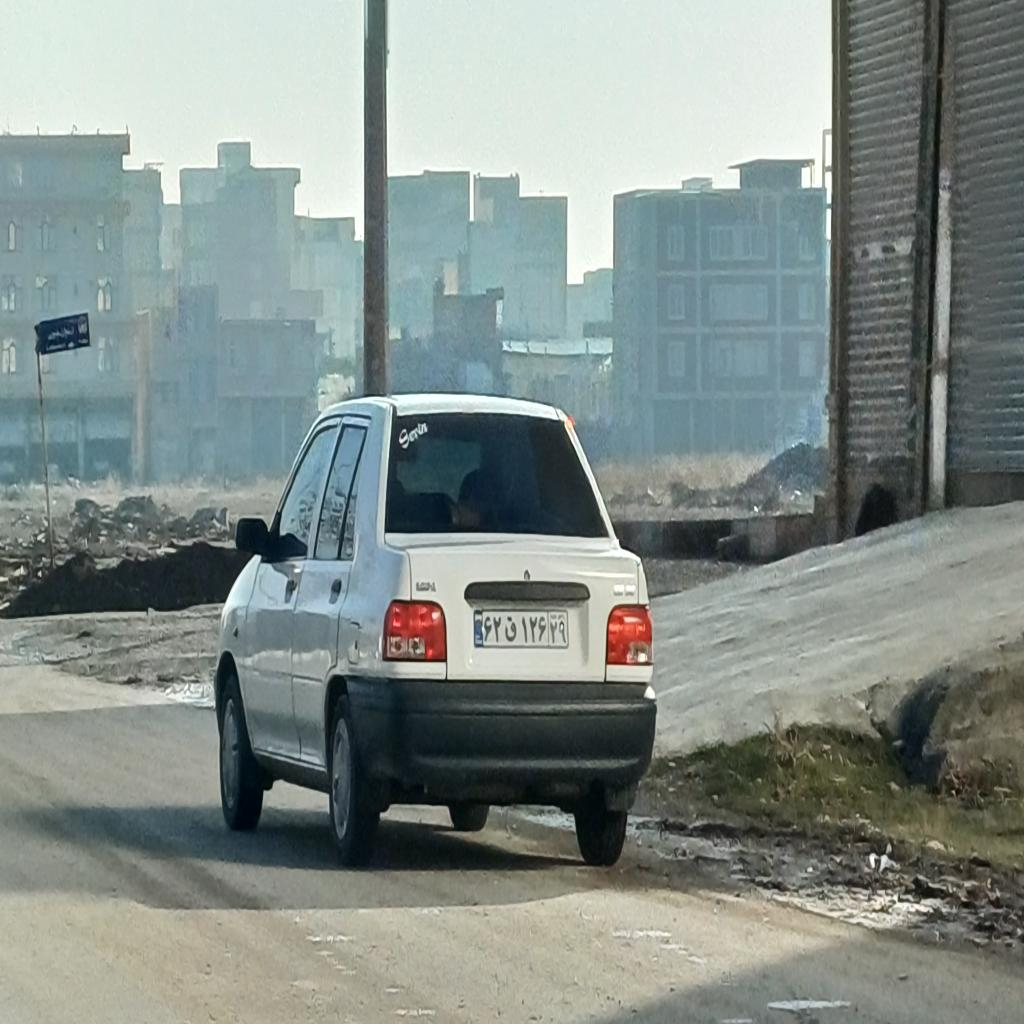Plates: (473, 608, 569, 650)
